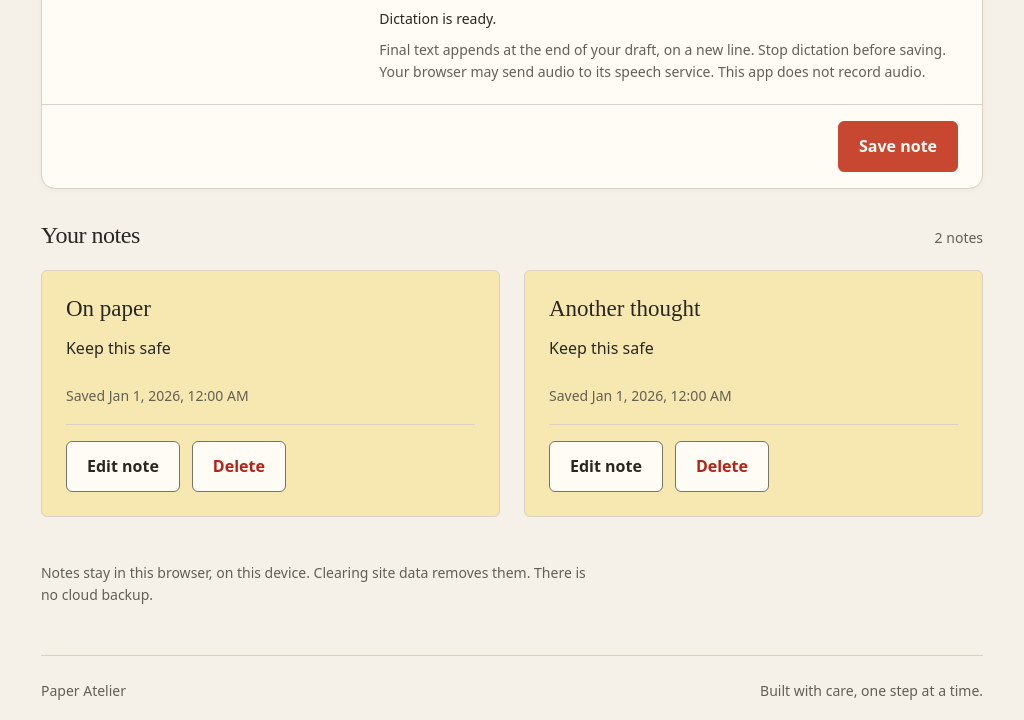
Test: confirmation removes exactly one, announces success, focuses heading and survives remount
(page scrolled)
Click the button with aria-label "Delete note: On paper".
click(239, 466)  # box [192,441,286,492]
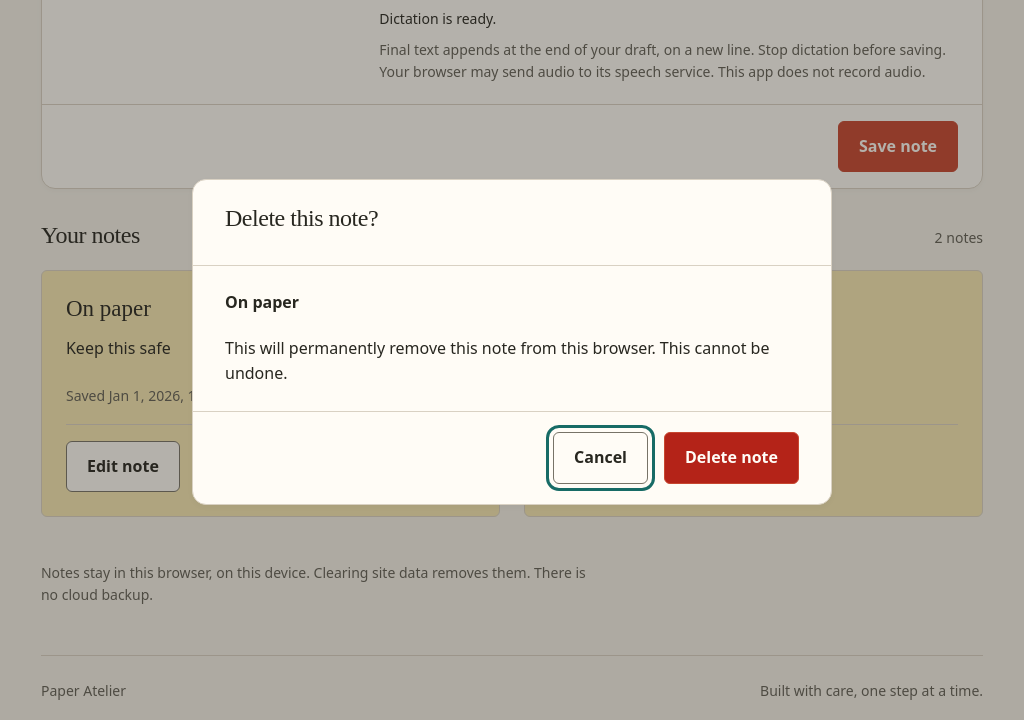
Click the button "Delete note".
click(732, 458)  # box [664,432,799,484]
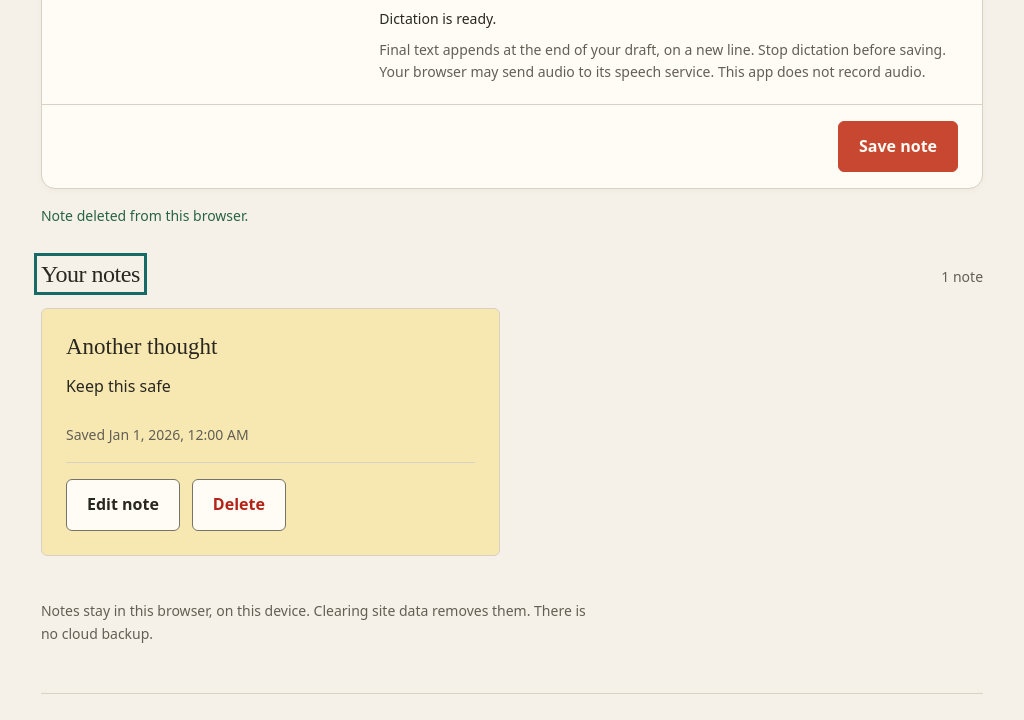
Expected: the element "Another thought" is shown, [41,308,500,556]
Now the heading "On paper" is gone
